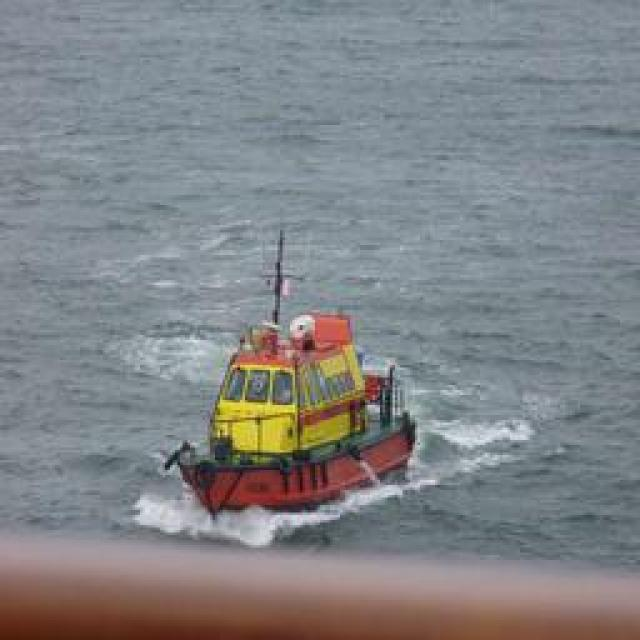CIV_Ship: (164, 231, 422, 521)
